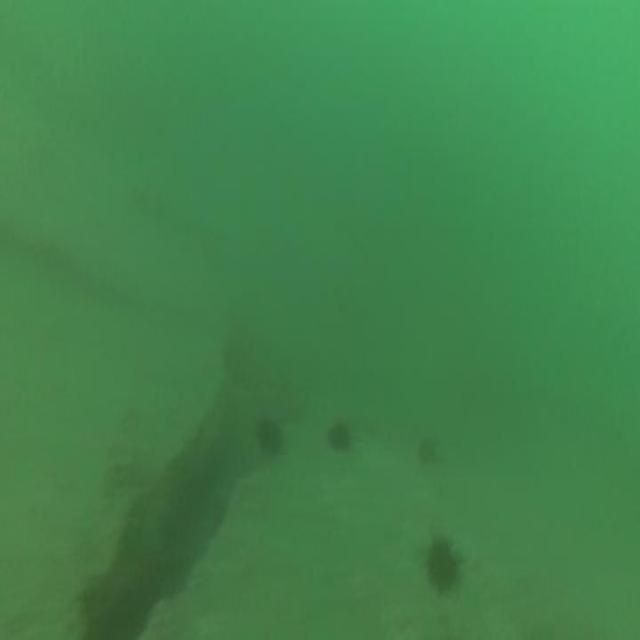echinus: (421, 529, 463, 599), (253, 409, 286, 463), (324, 414, 354, 458), (412, 430, 438, 471)
